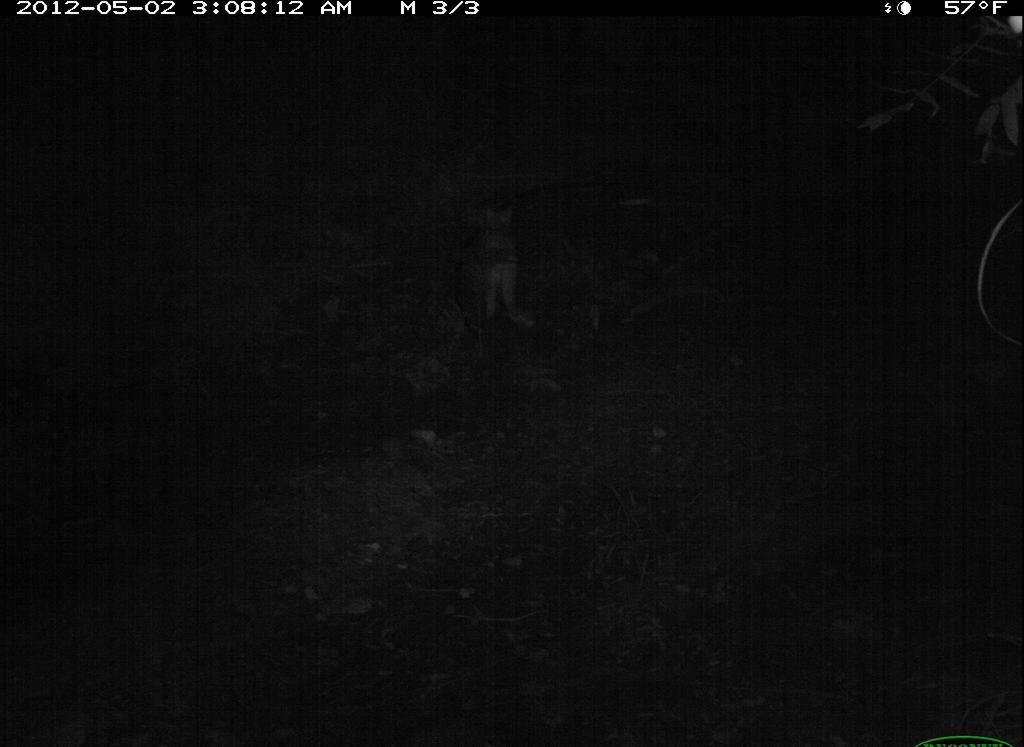cat: (472, 190, 546, 341)
